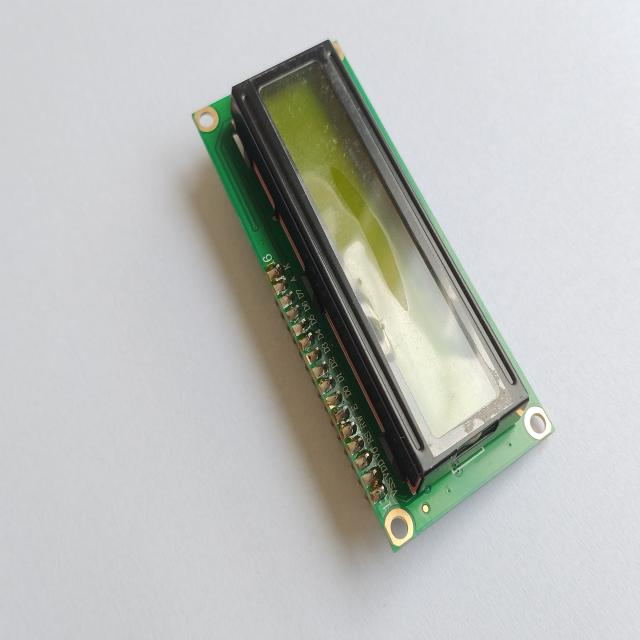lcd: (191, 37, 555, 553)
